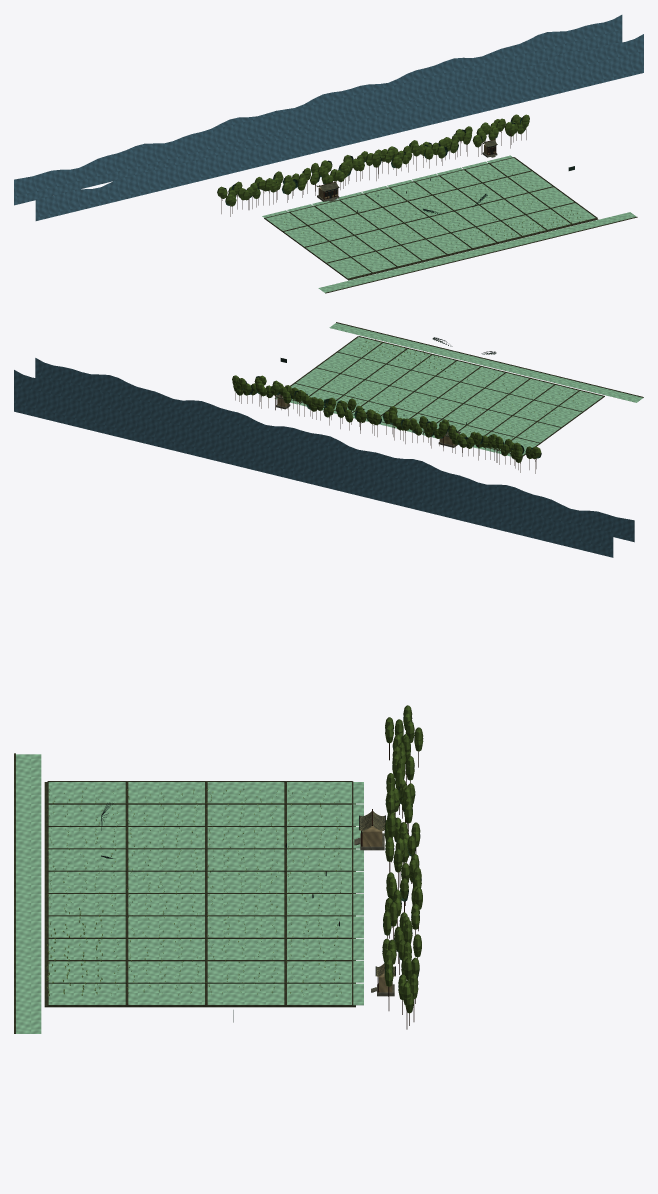
The model's file is JingXi_Aligned_Spring.glb.
3 views of the same model, one above another, from view 1: azimuth 30°, elevation 25°; view 2: azimuth 150°, elevation 25°; view 3: azimuth 270°, elevation 25° (orthographic). The views are drawn at different scales.
Parts seen in each view (by area): view 1: Spring_MountainRidge_mountain, Spring_PaddyWater_water, Spring_TreeCrowns_crown, Spring_YuquanCanal_water, Spring_FieldEarth_earth, Spring_CrossBanks_earth, Spring_FieldBanks_earth, Spring_TreeTrunks_wood, Spring_NearBank_earth, Spring_Rice_Leaf_leaf, Spring_TreeCrowns_leaf; view 2: Spring_MountainRidge_mountain, Spring_PaddyWater_water, Spring_TreeCrowns_crown, Spring_YuquanCanal_water, Spring_FieldBanks_earth, Spring_CrossBanks_earth, Spring_FieldEarth_earth, Spring_TreeTrunks_wood, Spring_NearBank_earth, Spring_TreeCrowns_leaf, Spring_Rice_Leaf_leaf; view 3: Spring_PaddyWater_water, Spring_TreeCrowns_crown, Spring_YuquanCanal_water, Spring_FieldBanks_earth, Spring_FieldEarth_earth, Spring_CrossBanks_earth, Spring_Rice_Leaf_leaf.
Part boxes in pixels (left/top/right/bottom): Spring_MountainRidge_mountain: left=14, top=15, right=643, bottom=220; Spring_PaddyWater_water: left=262, top=155, right=595, bottom=278; Spring_TreeCrowns_crown: left=217, top=114, right=529, bottom=206; Spring_YuquanCanal_water: left=318, top=212, right=636, bottom=292; Spring_FieldEarth_earth: left=264, top=157, right=598, bottom=280; Spring_CrossBanks_earth: left=265, top=157, right=596, bottom=278; Spring_FieldBanks_earth: left=264, top=157, right=597, bottom=279; Spring_TreeTrunks_wood: left=221, top=129, right=526, bottom=216; Spring_NearBank_earth: left=325, top=217, right=637, bottom=293; Spring_Rice_Leaf_leaf: left=284, top=162, right=586, bottom=274; Spring_TreeCrowns_leaf: left=224, top=117, right=524, bottom=205; Spring_MountainRidge_mountain: left=14, top=358, right=634, bottom=557; Spring_PaddyWater_water: left=274, top=337, right=602, bottom=456; Spring_TreeCrowns_crown: left=232, top=375, right=541, bottom=462; Spring_YuquanCanal_water: left=329, top=323, right=643, bottom=402; Spring_FieldBanks_earth: left=290, top=336, right=604, bottom=455; Spring_CrossBanks_earth: left=291, top=336, right=603, bottom=453; Spring_FieldEarth_earth: left=291, top=336, right=604, bottom=456; Spring_TreeTrunks_wood: left=235, top=390, right=536, bottom=473; Spring_NearBank_earth: left=336, top=322, right=643, bottom=397; Spring_TreeCrowns_leaf: left=235, top=376, right=541, bottom=458; Spring_Rice_Leaf_leaf: left=309, top=338, right=594, bottom=437; Spring_PaddyWater_water: left=48, top=782, right=363, bottom=1005; Spring_TreeCrowns_crown: left=382, top=705, right=423, bottom=1013; Spring_YuquanCanal_water: left=16, top=754, right=41, bottom=1033; Spring_FieldBanks_earth: left=48, top=781, right=352, bottom=1006; Spring_FieldEarth_earth: left=44, top=782, right=355, bottom=1007; Spring_CrossBanks_earth: left=47, top=781, right=353, bottom=1005; Spring_Rice_Leaf_leaf: left=46, top=788, right=341, bottom=995.
Bounding box in the file's own units: 195 × 13.26 × 95.15.
Materials: 16 (16 with a texture image).
